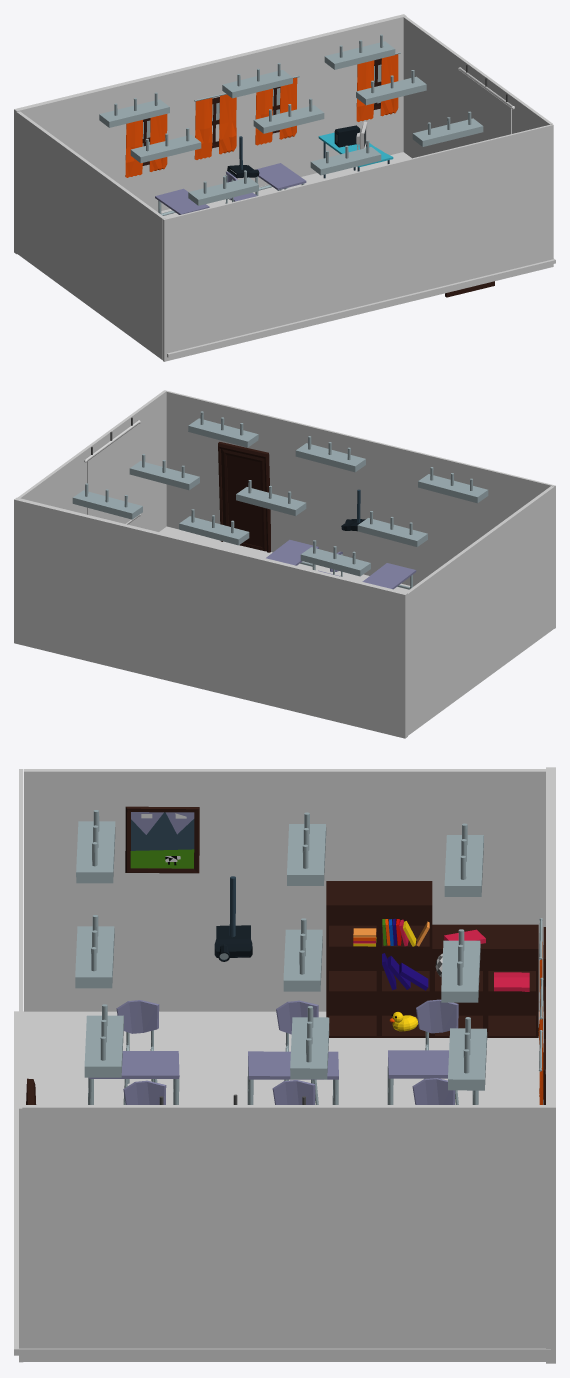
3 renders of one model, top to bottom at view 1: azimuth 30°, elevation 25°; view 2: azimuth 150°, elevation 25°; view 3: azimuth 270°, elevation 25°, orthographic. The views are drawn at different scales.
Visible parts, largest first — view 1: group1708628055, group1606686412, group363772429, group421461732, group1043174289, group596629695, group1941186110, group800968703, group2035007592, group825733962, group856701084, group300508059 (+12 smaller); view 2: group1606686412, group1708628055, group363772429, group421461732, group729752686, group596629695, group1043174289, group1254331562, group300508059, group629326721, group812101420, group1941934137 (+6 smaller); view 3: group421461732, group363772429, group1043174289, group1192281077, group1606686412, group711215999, group1150992297, group1586682540, group1057097951, group1708628055, group629326721, group2020093838 (+11 smaller).
Part boxes in pixels (<box>): group1708628055: <box>163,124,553,361</box>; group1606686412: <box>14,14,406,254</box>; group363772429: <box>16,111,165,360</box>; group421461732: <box>403,16,552,158</box>; group1043174289: <box>161,152,555,357</box>; group596629695: <box>458,64,514,146</box>; group1941186110: <box>194,93,236,159</box>; group800968703: <box>356,52,400,121</box>; group2035007592: <box>125,114,167,177</box>; group825733962: <box>255,75,299,145</box>; group856701084: <box>130,128,201,163</box>; group300508059: <box>412,111,483,146</box>; group1606686412: <box>14,497,407,738</box>; group1708628055: <box>165,390,555,628</box>; group363772429: <box>406,486,554,735</box>; group421461732: <box>18,390,166,531</box>; group729752686: <box>218,442,270,552</box>; group596629695: <box>84,417,141,524</box>; group1043174289: <box>159,526,410,592</box>; group1254331562: <box>129,454,199,490</box>; group300508059: <box>188,411,258,447</box>; group629326721: <box>295,436,365,472</box>; group812101420: <box>300,540,370,576</box>; group1941934137: <box>72,483,142,519</box>; group421461732: <box>22,1105,545,1361</box>; group363772429: <box>24,769,545,1011</box>; group1043174289: <box>14,1011,550,1355</box>; group1192281077: <box>326,881,538,1037</box>; group1606686412: <box>546,767,555,1363</box>; group711215999: <box>125,806,199,873</box>; group1150992297: <box>387,999,478,1104</box>; group1586682540: <box>88,1000,179,1104</box>; group1057097951: <box>247,1000,338,1104</box>; group1708628055: <box>19,769,23,1362</box>; group629326721: <box>75,915,114,988</box>; group2020093838: <box>441,929,480,1002</box>.
Bounding box in the file's own units: 9.56 × 3.75 × 6.43.
